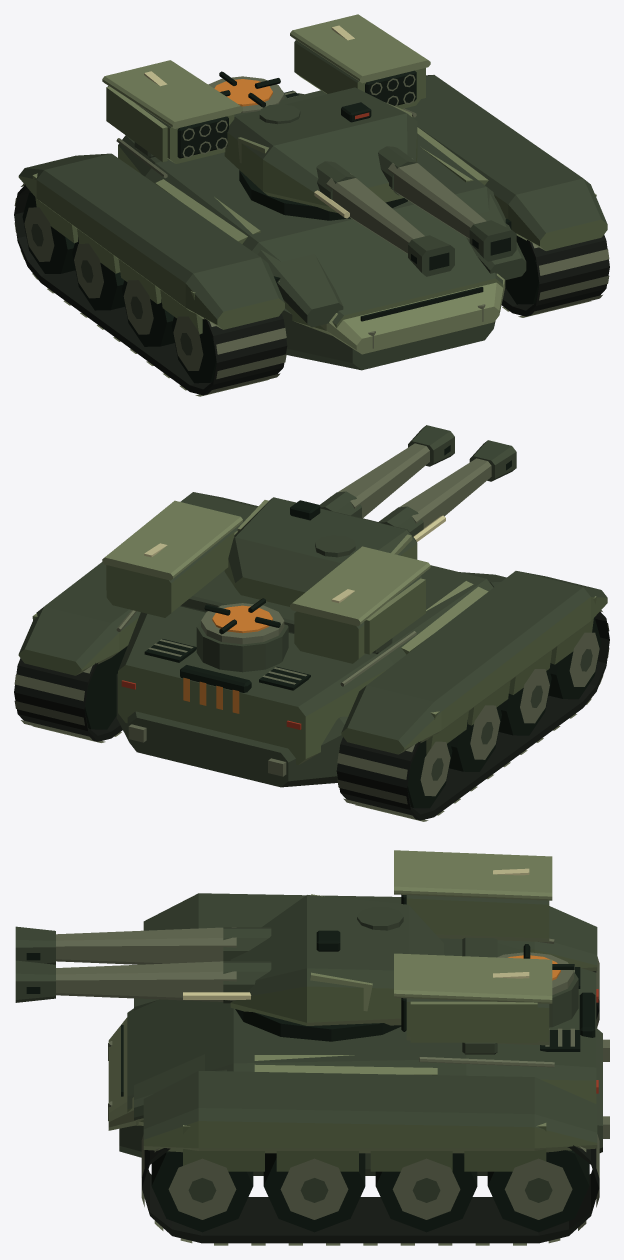
The model's file is boss_armored.glb.
3 renders of one model, top to bottom at view 1: azimuth 30°, elevation 25°; view 2: azimuth 150°, elevation 25°; view 3: azimuth 270°, elevation 25°, orthographic. The views are drawn at different scales.
Visible parts, largest first — view 1: Component_LeftDrive, Body, Component_GunPod, Component_RightDrive, Component_MissilePod, Component_Core; view 2: Component_LeftDrive, Body, Component_MissilePod, Component_GunPod, Component_RightDrive, Component_Core; view 3: Component_RightDrive, Component_GunPod, Body, Component_MissilePod, Component_LeftDrive, Component_Core.
Part boxes in pixels (bbox=[...]): Component_LeftDrive: bbox=[14, 153, 287, 396]; Body: bbox=[116, 90, 526, 370]; Component_GunPod: bbox=[224, 87, 516, 276]; Component_RightDrive: bbox=[404, 75, 609, 317]; Component_MissilePod: bbox=[102, 14, 430, 163]; Component_Core: bbox=[208, 71, 287, 112]; Component_LeftDrive: bbox=[336, 571, 609, 821]; Body: bbox=[116, 531, 506, 787]; Component_MissilePod: bbox=[102, 500, 430, 663]; Component_GunPod: bbox=[224, 425, 516, 606]; Component_RightDrive: bbox=[14, 492, 258, 742]; Component_Core: bbox=[180, 598, 288, 713]; Component_RightDrive: bbox=[141, 1071, 599, 1245]; Component_GunPod: bbox=[15, 894, 443, 1041]; Body: bbox=[108, 938, 609, 1175]; Component_MissilePod: bbox=[394, 850, 552, 1054]; Component_LeftDrive: bbox=[143, 893, 599, 1027]; Component_Core: bbox=[497, 944, 595, 1037].
Size of the model in its own units: 11.34 by 5.17 by 12.81.
1 material, 1 textured.
